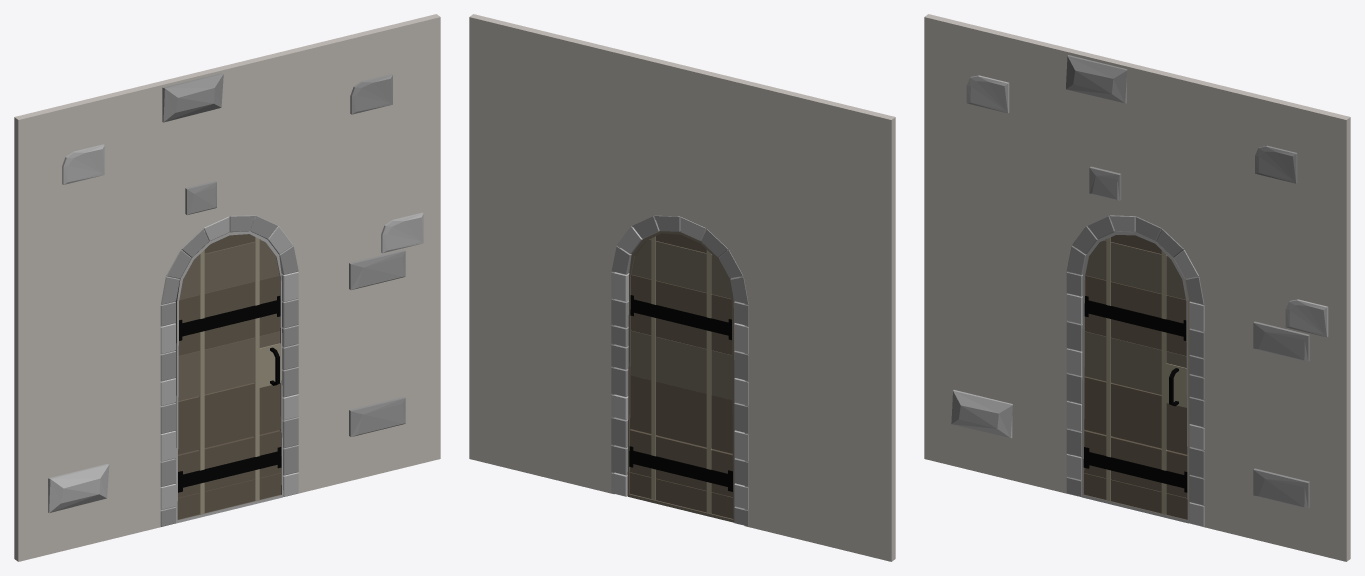
Rendered from _DOOR_03_1.fbx.
The picture shows the model from 3 angles, left to right: view 1: azimuth 30°, elevation 25°; view 2: azimuth 150°, elevation 25°; view 3: azimuth 330°, elevation 25°; orthographic projection.
Visible parts, largest first — view 1: DOOR_03_1; view 2: DOOR_03_1; view 3: DOOR_03_1.
Boxes of the visible parts, x1,y1,x2,y2 form: DOOR_03_1: [14, 14, 440, 561]; DOOR_03_1: [469, 14, 895, 561]; DOOR_03_1: [924, 14, 1350, 561].
Size of the model in its own units: 300 by 300 by 13.91.
